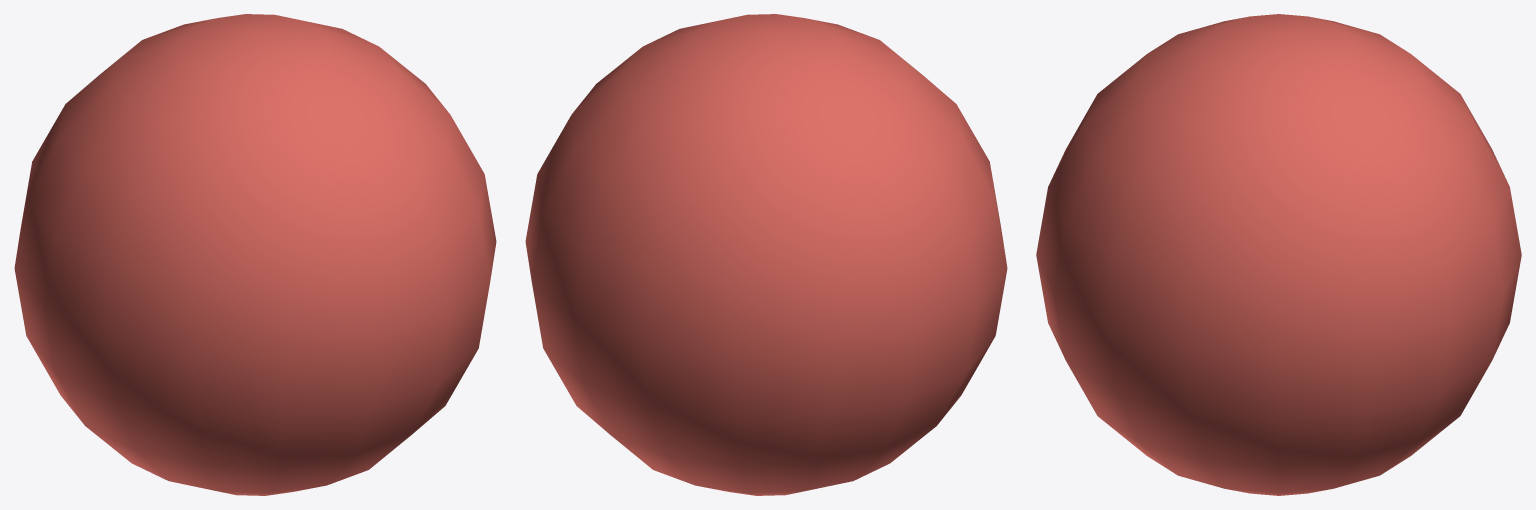
File: ava-red-ball.glb
3 renders of one model, left to right at view 1: azimuth 30°, elevation 25°; view 2: azimuth 150°, elevation 25°; view 3: azimuth 270°, elevation 25°, orthographic.
Visible parts, largest first — view 1: colored ball; view 2: colored ball; view 3: colored ball.
Part boxes in pixels (<box>): colored ball: <box>14,14,496,495</box>; colored ball: <box>525,14,1007,495</box>; colored ball: <box>1036,14,1521,495</box>.
Bounding box in the file's own units: 0.9 × 0.9 × 0.9.
